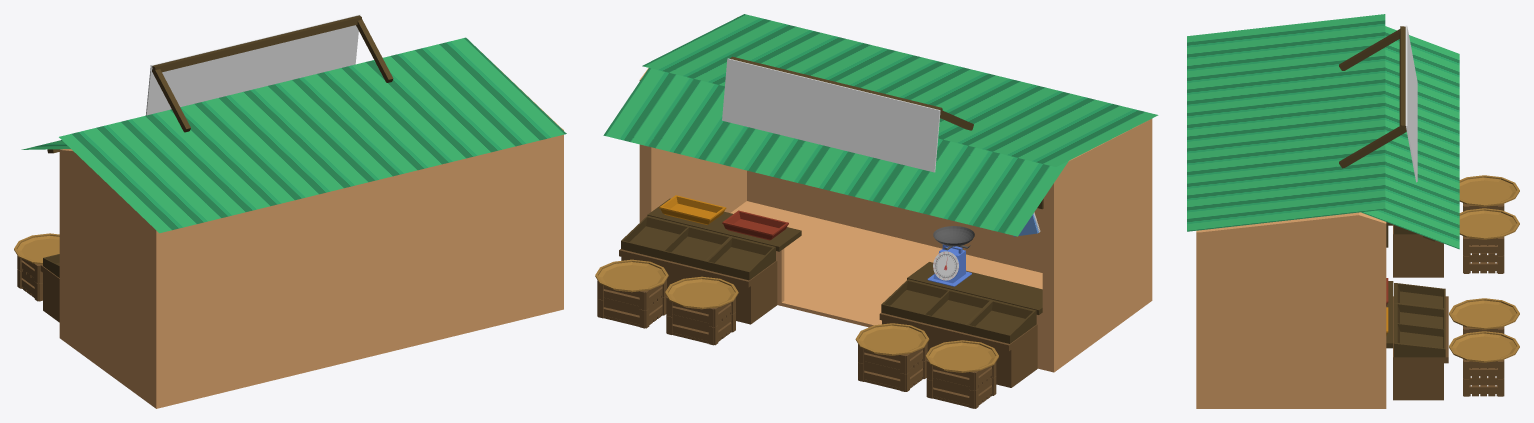
File: gulayanlabas.fbx
3 renders of one model, left to right at view 1: azimuth 30°, elevation 25°; view 2: azimuth 150°, elevation 25°; view 3: azimuth 270°, elevation 25°, orthographic. The views are drawn at different scales.
Visible parts, largest first — view 1: gulayanlabas, Plane, stallname, Cube.498, Cube.499, bilao, woodcrates, LongTable1.003; view 2: gulayanlabas, Plane.001, Plane, stallname, Container.004, Container.003, woodcrates, woodcrates.001, bilao, bilao.001, Plane.043, LongTable1.001 (+7 smaller); view 3: Plane, gulayanlabas, Plane.001, Container.003, bilao.001, bilao, LongTable1.001, LongTable1.003, woodcrates.001, woodcrates, stallname, Cube.499 (+2 smaller).
Boxes of the visible parts, x1,y1,x2,y2 form: gulayanlabas: (59,52,563,408); Plane: (59,37,566,233); stallname: (146,14,360,115); Cube.498: (152,15,361,72); Cube.499: (152,19,393,132); bilao: (14,233,59,264); woodcrates: (17,255,42,301); LongTable1.003: (40,264,59,322); gulayanlabas: (639,17,1152,372); Plane.001: (603,68,1068,236); Plane: (642,14,1158,166); stallname: (722,58,940,172); Container.004: (881,279,1036,343); Container.003: (621,215,775,280); woodcrates: (858,343,996,408); woodcrates.001: (597,279,735,345); bilao: (855,323,998,372); bilao.001: (595,259,738,309); Plane.043: (647,198,1042,314); LongTable1.001: (619,249,777,324); Plane: (1187,14,1385,231); gulayanlabas: (1196,212,1386,408); Plane.001: (1361,26,1459,249); Container.003: (1394,283,1445,357); bilao.001: (1449,298,1519,362); bilao: (1459,175,1519,239); LongTable1.001: (1393,296,1448,400); LongTable1.003: (1393,224,1443,277); woodcrates.001: (1463,326,1504,396); woodcrates: (1463,203,1504,273); stallname: (1405,25,1417,182); Cube.499: (1339,29,1406,168).
Size of the model in its own units: 10.95 by 6.15 by 7.85.
Materials: 16 (2 with a texture image).
